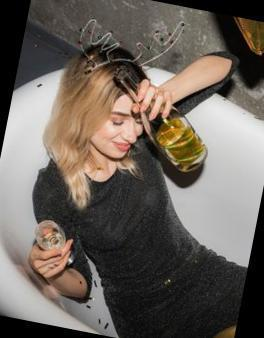Drunk: (85, 79, 146, 160)
